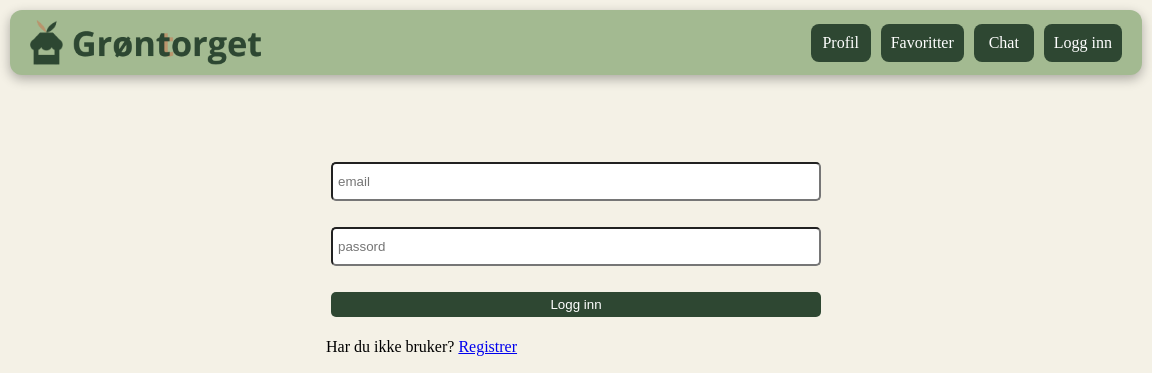
Test: LoginComponent › should display error messages for invalid email and password
The width and height of the screenshot is (1152, 373).
Type "invalid-email" into the field with id "email". click: (576, 182)
box: [331,162,821,201]
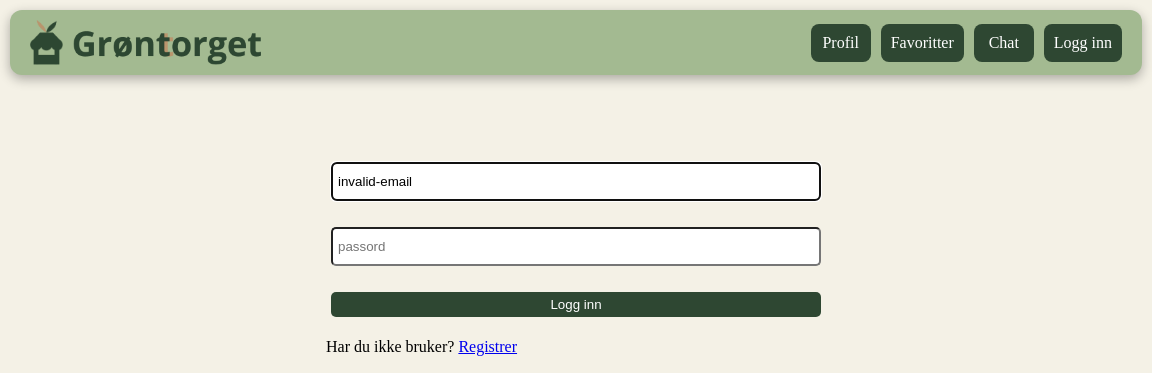
Type "12" into the password field with placeholder "passord". click: (576, 247)
box: [331,227,821,266]
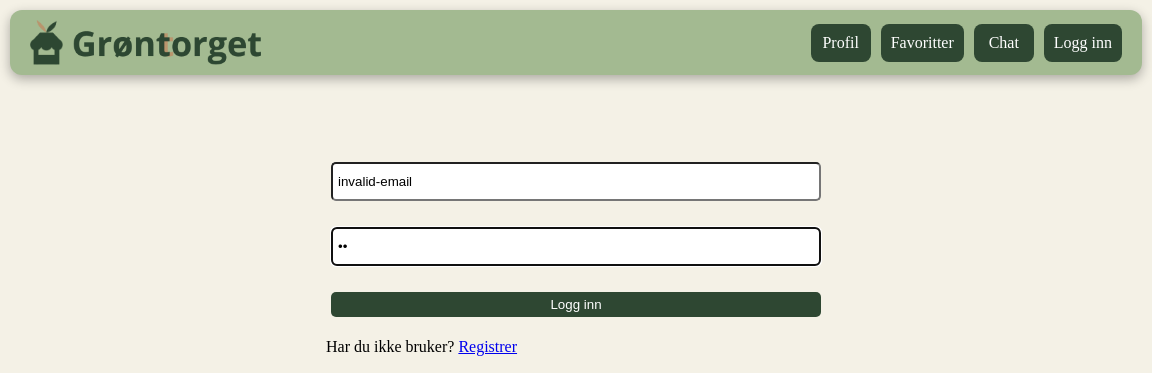
Click the submit button. click: (576, 305)
box: [331,292,821,317]
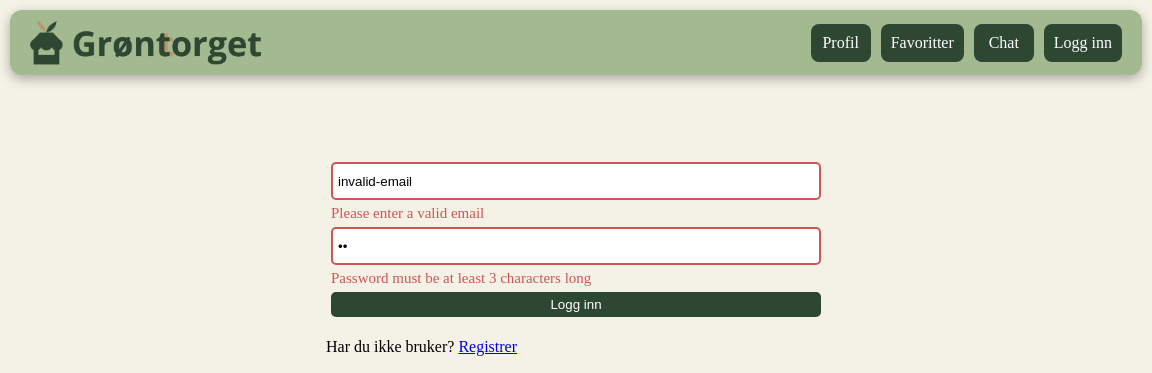
Check: the text "Please enter a valid email" is shown, box [331,205,484,221]
Check: the text "Password must be at least 3 characters long" is shown, box [331,270,591,286]
